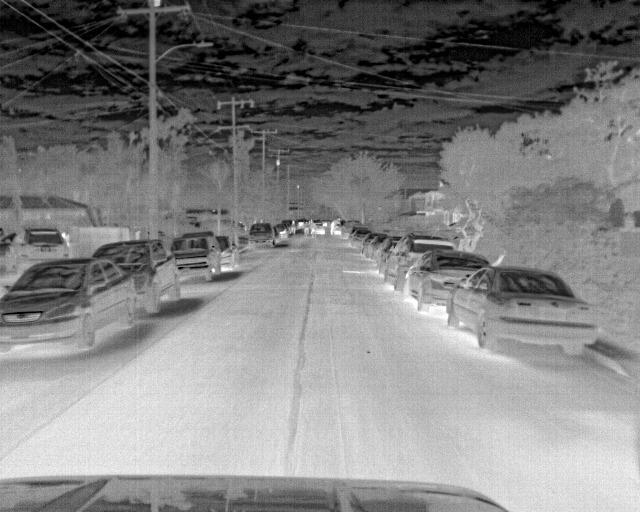car: (447, 262, 598, 360), (3, 256, 137, 355), (93, 238, 179, 316), (402, 251, 493, 315), (379, 235, 454, 291), (6, 227, 70, 276), (169, 232, 220, 282), (246, 220, 278, 251), (373, 237, 402, 270), (217, 234, 238, 272), (367, 238, 388, 261), (352, 226, 372, 248), (340, 219, 359, 238), (363, 234, 376, 256), (273, 223, 288, 241), (281, 218, 295, 235), (313, 223, 326, 236)
